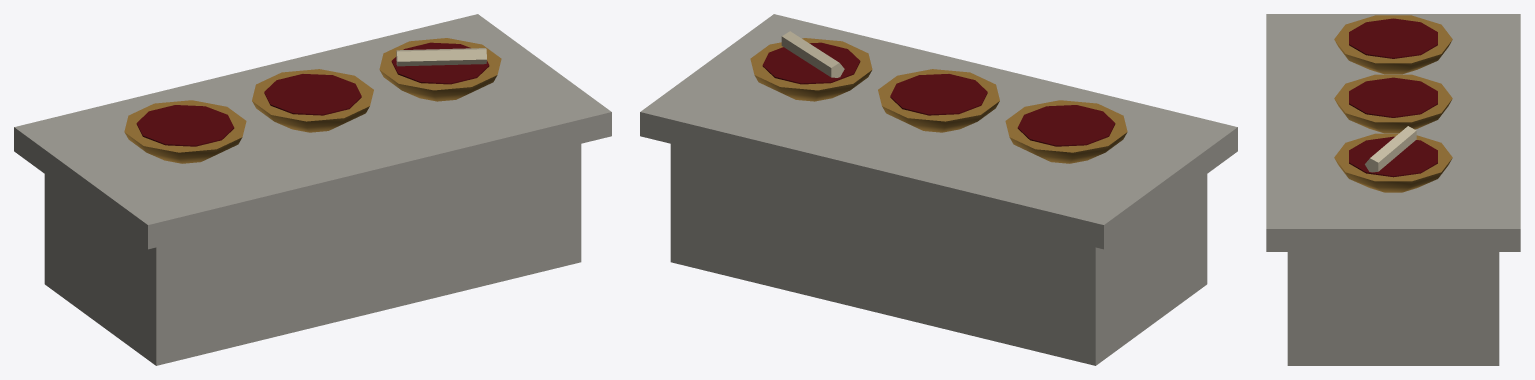
The model's file is OfferingBowls.fbx.
3 renders of one model, left to right at view 1: azimuth 30°, elevation 25°; view 2: azimuth 150°, elevation 25°; view 3: azimuth 270°, elevation 25°, orthographic. The views are drawn at different scales.
Parts seen in each view (by area): view 1: OfferingBowls; view 2: OfferingBowls; view 3: OfferingBowls.
Boxes of the visible parts, <box> form: OfferingBowls: <box>14,14,611,365</box>; OfferingBowls: <box>640,14,1237,365</box>; OfferingBowls: <box>1266,14,1520,365</box>.
Bounding box in the file's own units: 1.2 × 0.479 × 0.6.
